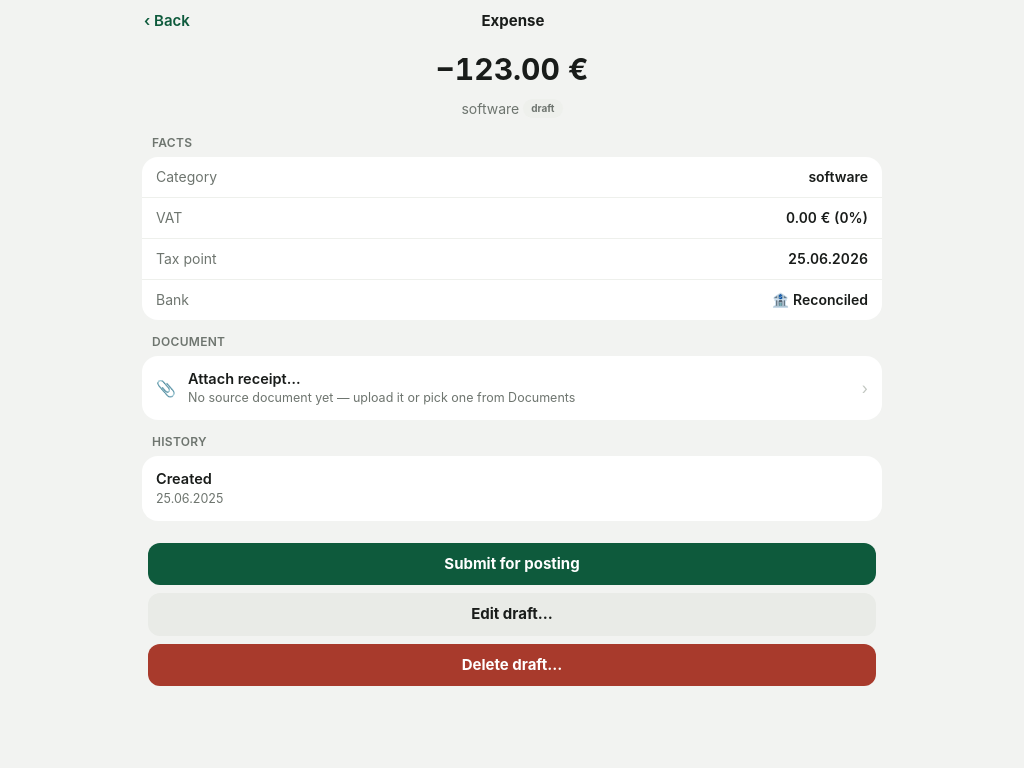
Test: Attach a late receipt (issue #248) › a VAT-0 ("no receipt") draft expense says where VAT can change
Click the button "Attach receipt…".
click(512, 388)  # box [142,356,882,420]
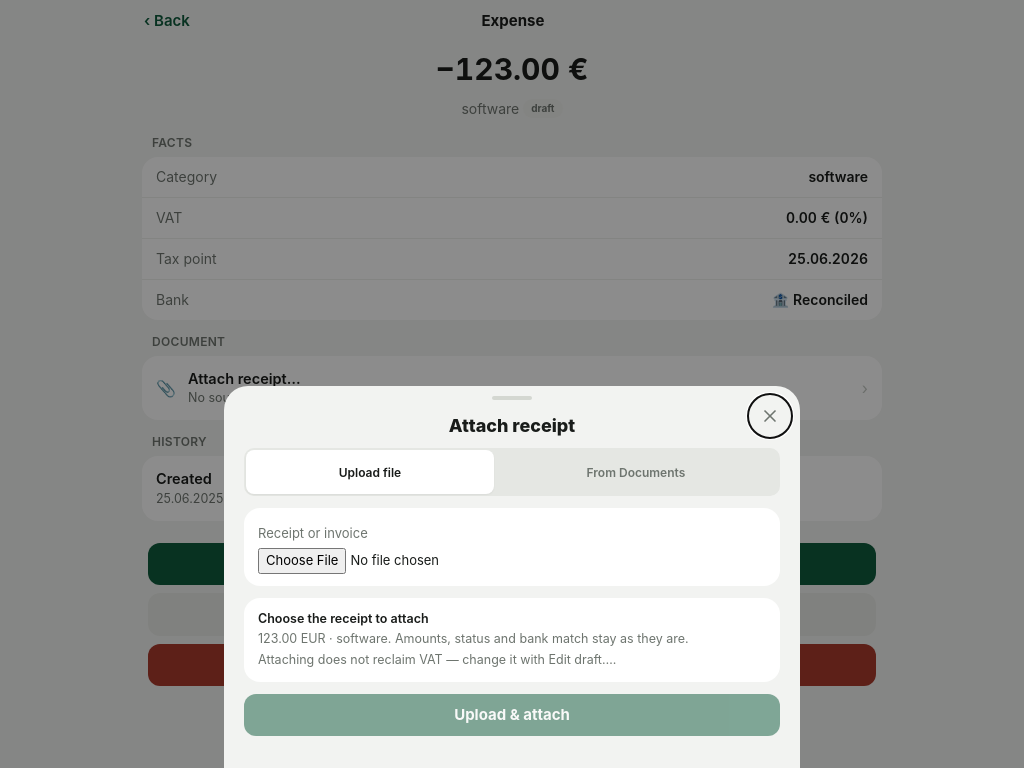
Now the text "Attaching does not reclaim VAT — change it with Edit draft…." is shown, box [258,652,616,667]
